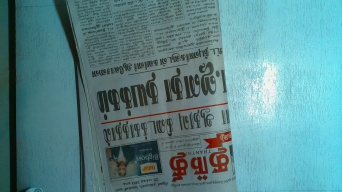p: (61, 1, 241, 190)
